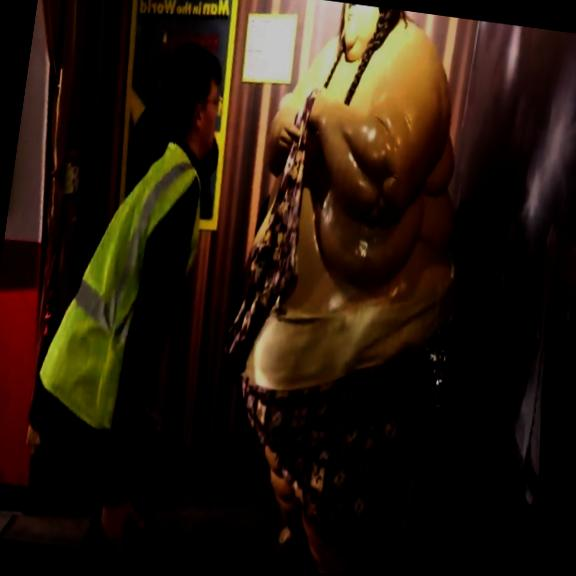safety_vest: (33, 127, 210, 442)
